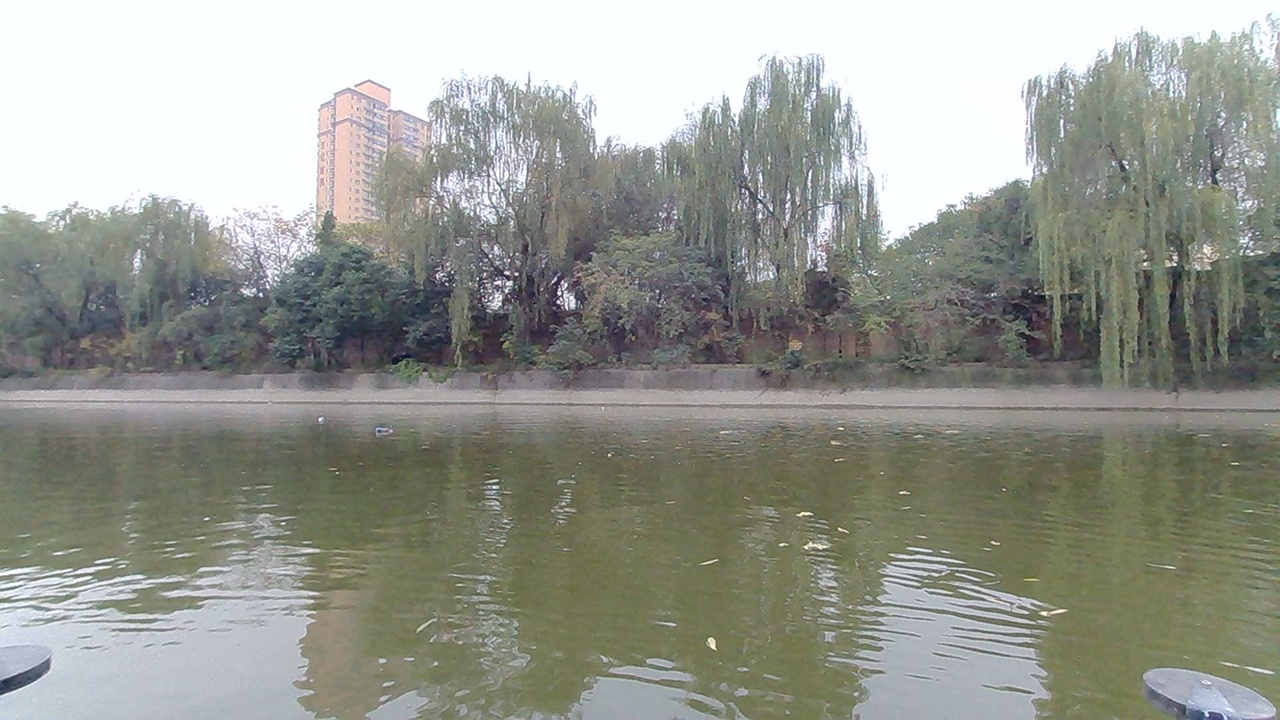bottle: (367, 417, 404, 441)
